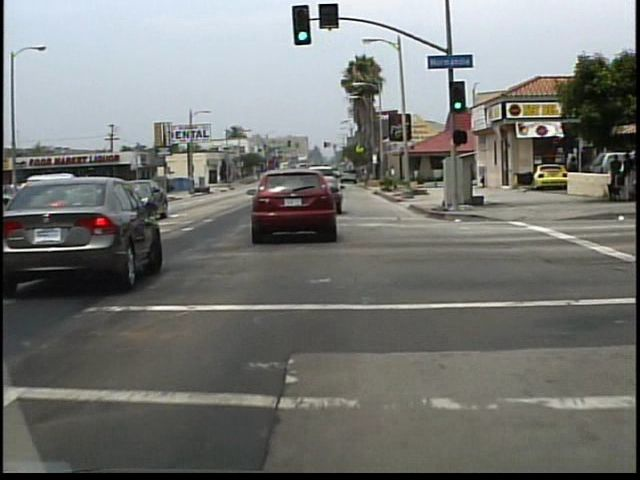person: (565, 155, 582, 196)
